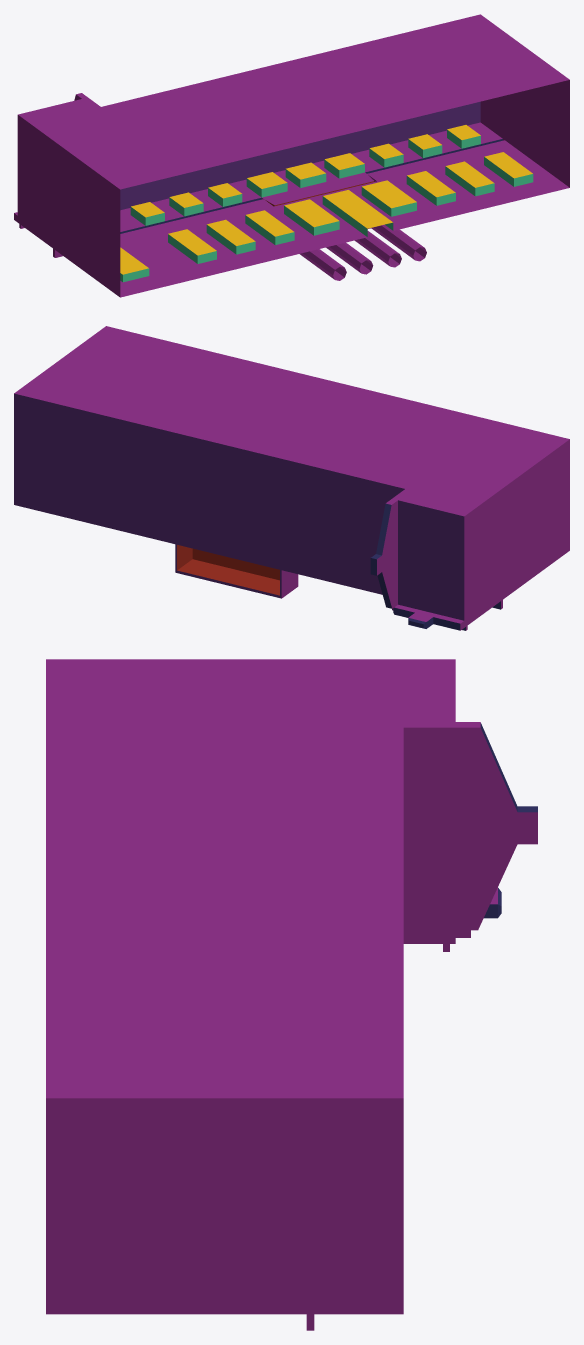
The model's file is Willa Włodzimierza Kulczyckiego Tier 3.fbx.
3 renders of one model, top to bottom at view 1: azimuth 30°, elevation 25°; view 2: azimuth 150°, elevation 25°; view 3: azimuth 270°, elevation 25°, orthographic. The views are drawn at different scales.
Visible parts, largest first — view 1: Walec_3; view 2: Walec_3; view 3: Walec_3.
Part boxes in pixels (x1,y1,x2,y2): Walec_3: (14,14,569,297); Walec_3: (14,326,569,630); Walec_3: (46,659,537,1330).
Bounding box in the file's own units: 3.97 × 1.31 × 1.88.
